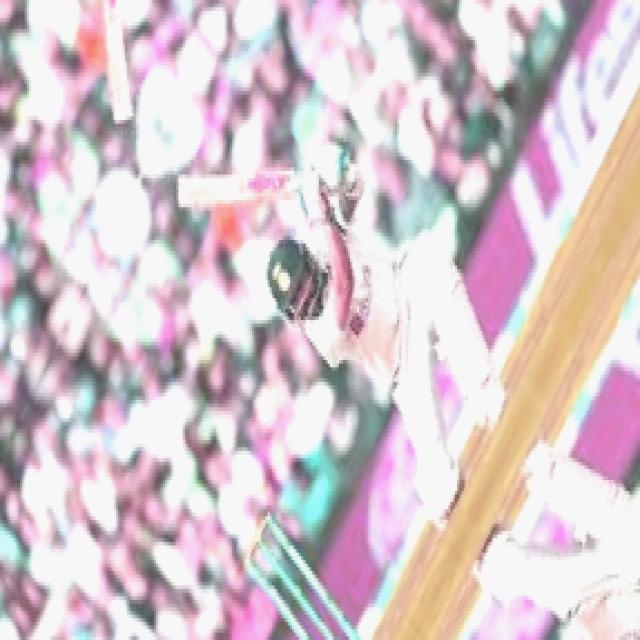bat: (170, 173, 324, 212)
toe: (169, 168, 186, 213)
